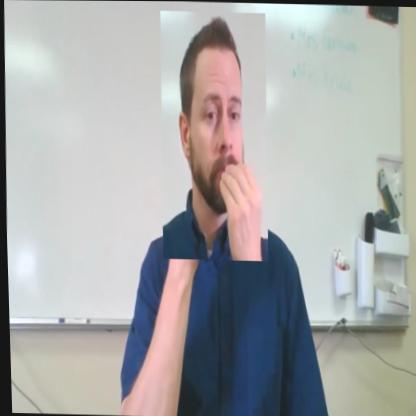Food: (156, 10, 271, 261)
